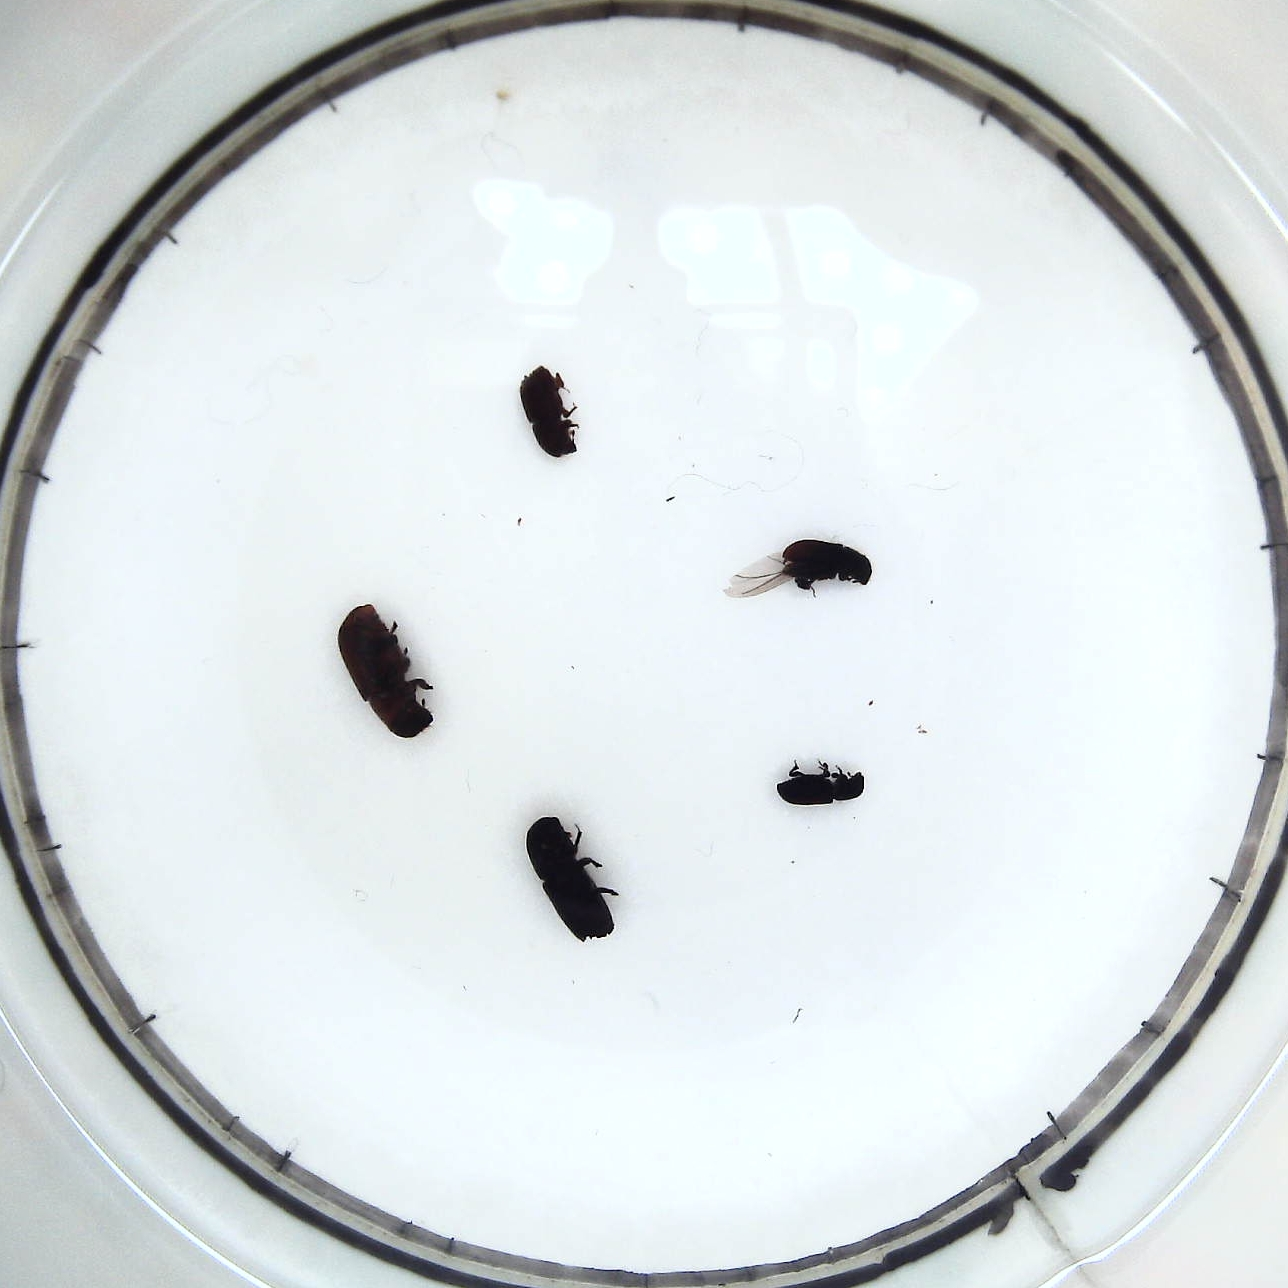Boerner: (523, 808, 620, 947)
Leconte: (331, 598, 443, 744)
armandi: (724, 539, 870, 600)
coleoptera: (771, 757, 873, 810)
linnaeus: (515, 359, 583, 466)
